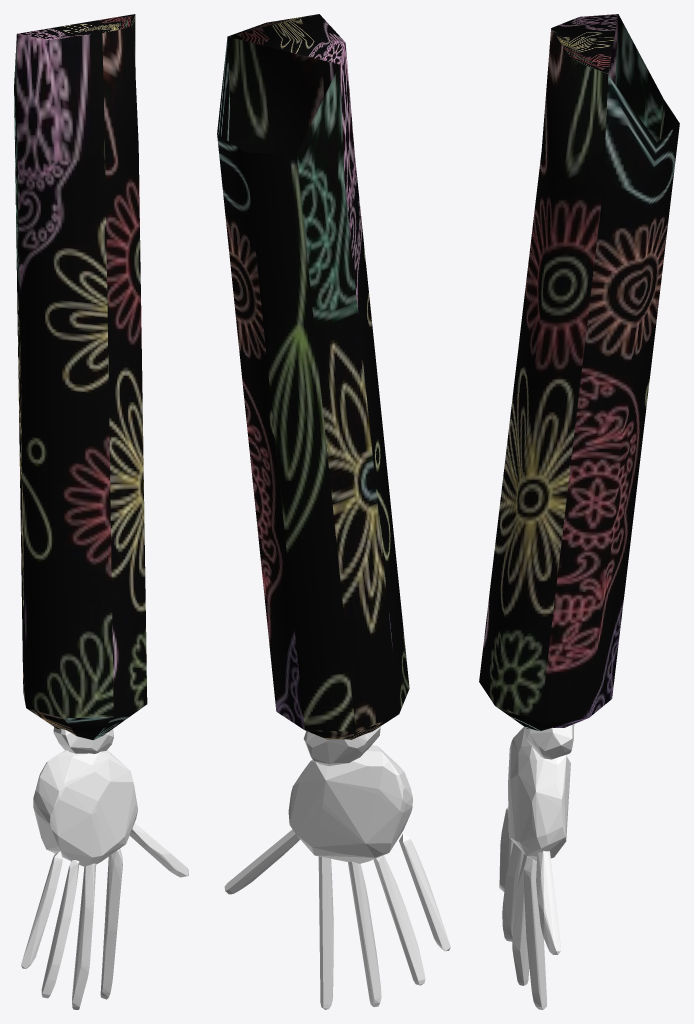
File: brazo-de.obj
The picture shows the model from 3 angles, left to right: view 1: azimuth 30°, elevation 25°; view 2: azimuth 150°, elevation 25°; view 3: azimuth 270°, elevation 25°; orthographic projection. The views are drawn at different scales.
Visible parts, largest first — view 1: Object_13.002, Object_7.002; view 2: Object_13.002, Object_7.002; view 3: Object_13.002, Object_7.002.
Boxes of the visible parts, box(x1,y1,x2,y2) form: Object_13.002: box(14, 14, 147, 739); Object_7.002: box(21, 727, 188, 1009); Object_13.002: box(217, 14, 409, 739); Object_7.002: box(224, 726, 450, 1009); Object_13.002: box(479, 14, 679, 730); Object_7.002: box(499, 724, 574, 1009).
Size of the model in its own units: 0.1397 by 0.6659 by 0.1234.
Materials: 2 (2 with a texture image).
